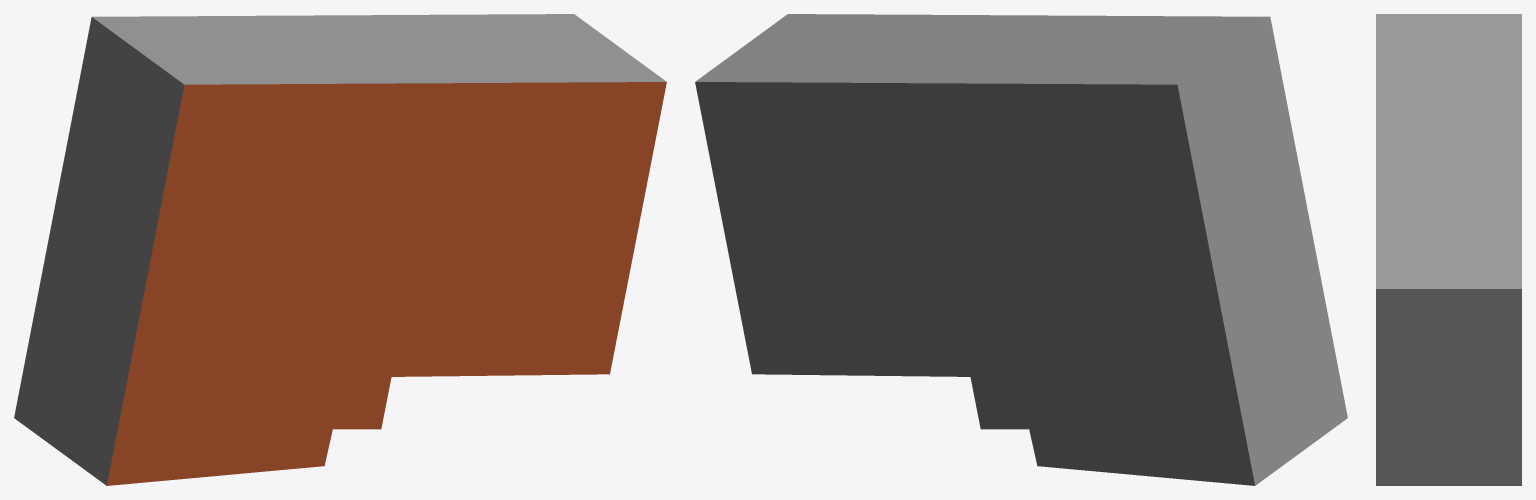
File: construction_0461_assumed_A_Casa_h6m.obj
The picture shows the model from 3 angles, left to right: view 1: azimuth 30°, elevation 25°; view 2: azimuth 150°, elevation 25°; view 3: azimuth 270°, elevation 25°; orthographic projection. The views are drawn at different scales.
Visible parts, largest first — view 1: construction_0461_assumed_A_Casa; view 2: construction_0461_assumed_A_Casa; view 3: construction_0461_assumed_A_Casa.
Boxes of the visible parts, x1,y1,x2,y2 form: construction_0461_assumed_A_Casa: (14,14,666,485); construction_0461_assumed_A_Casa: (695,14,1347,485); construction_0461_assumed_A_Casa: (1376,14,1521,485).
Bounding box in the file's own units: 20.91 × 14.82 × 6.
